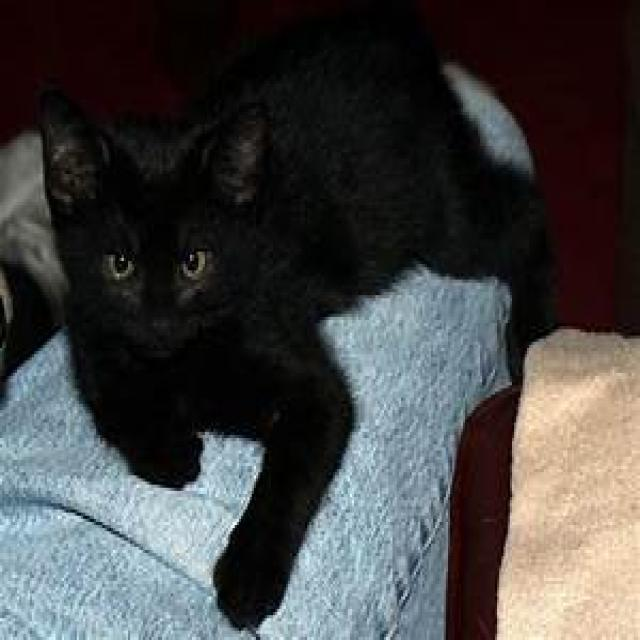cat: (36, 9, 547, 615)
